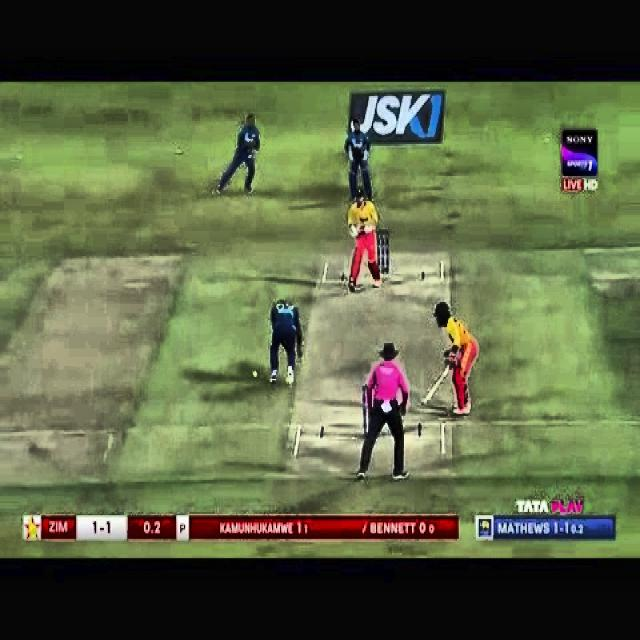Left-stump: (376, 231, 378, 265)
Middle-stump: (382, 231, 384, 272)
Right-stump: (386, 231, 389, 274)
